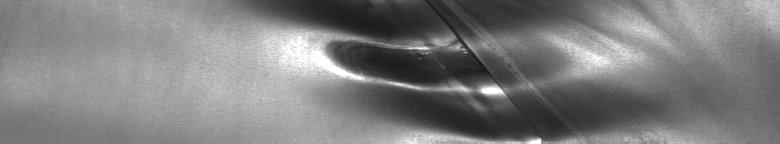ke: (283, 4, 663, 136)
